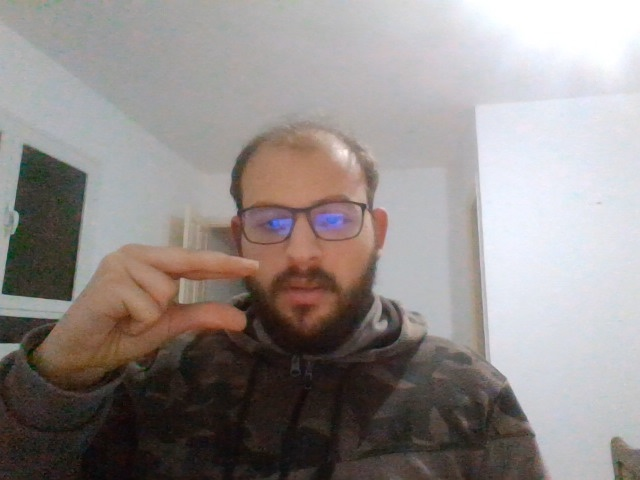No: (101, 246, 257, 347)
